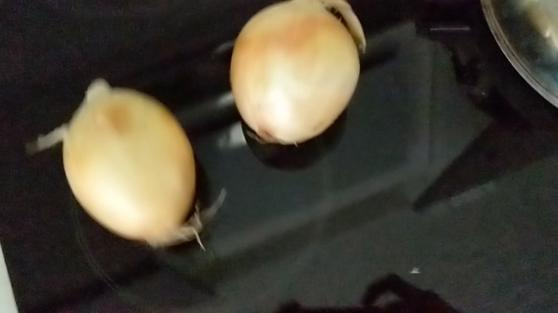onion: (62, 79, 214, 258), (228, 1, 372, 149)
